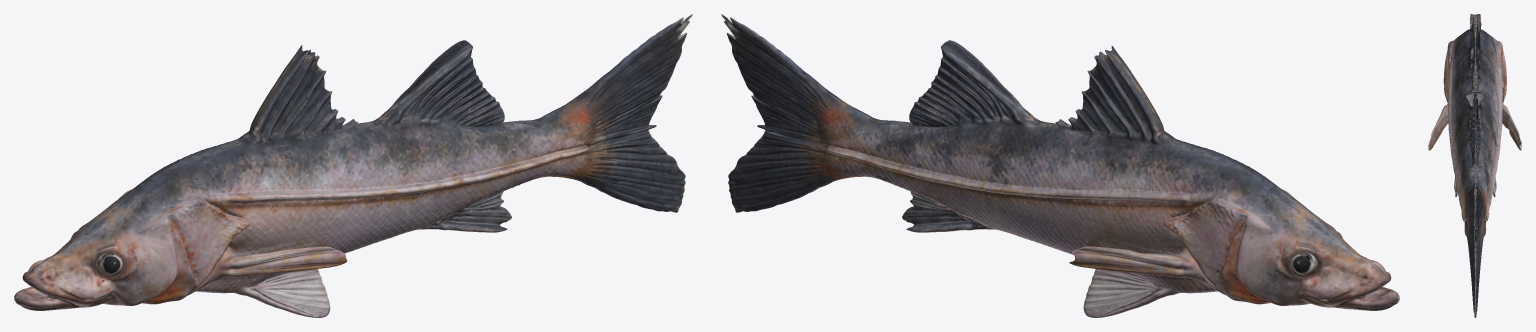
Rendered from robalo.glb.
3 renders of one model, left to right at view 1: azimuth 30°, elevation 25°; view 2: azimuth 150°, elevation 25°; view 3: azimuth 270°, elevation 25°, orthographic. The views are drawn at different scales.
Parts seen in each view (by area): view 1: Robalo; view 2: Robalo; view 3: Robalo.
Boxes of the visible parts, box(x1,y1,x2,y2) form: Robalo: box(14, 14, 692, 317); Robalo: box(721, 14, 1399, 317); Robalo: box(1428, 14, 1521, 317).
Bounding box in the file's own units: 0.4892 × 0.1798 × 0.0839.
1 material, 1 textured.
